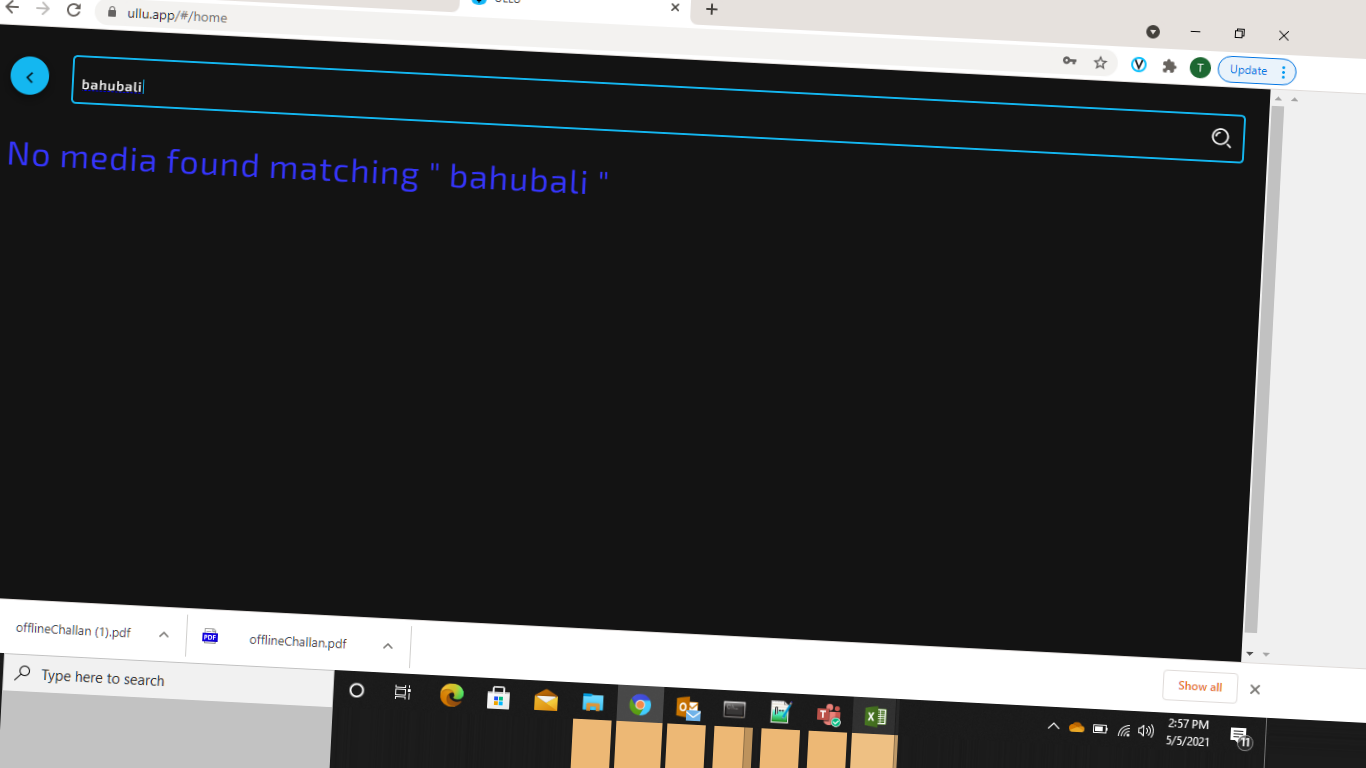backbutton: (5, 51, 60, 107)
noresultsfound: (1, 127, 614, 218)
searchicon: (1198, 114, 1246, 159)
searchtextbox: (61, 49, 1266, 160)
